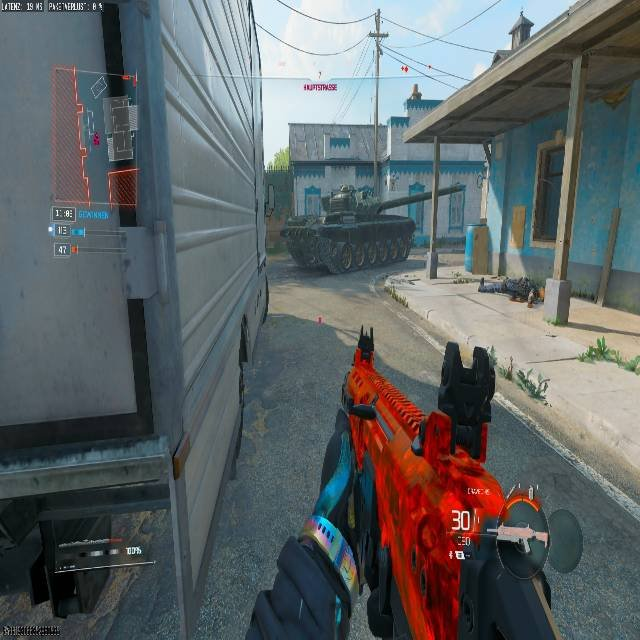player: (527, 288, 543, 308)
